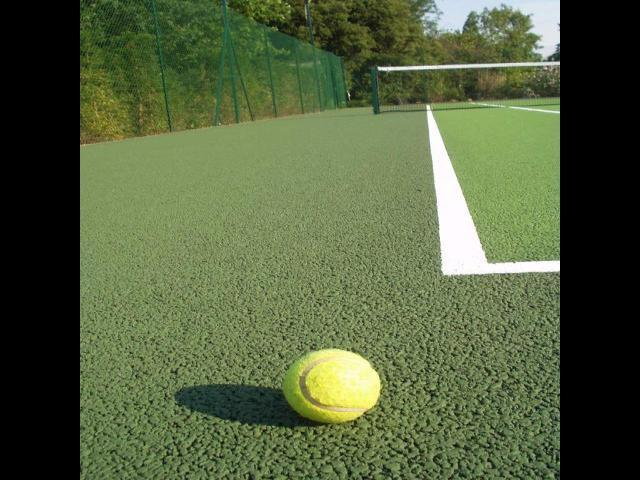tennis-ball: (282, 348, 382, 424)
